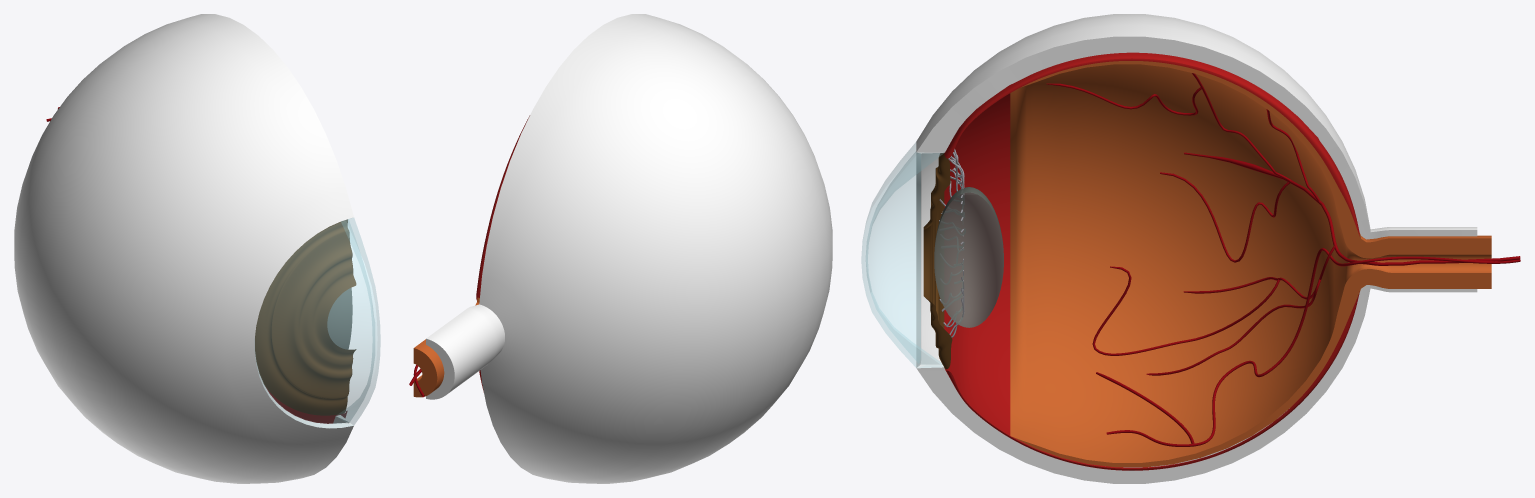
Rendered from anatomi_mata_eye_anatomy.glb.
The picture shows the model from 3 angles, left to right: view 1: azimuth 30°, elevation 25°; view 2: azimuth 150°, elevation 25°; view 3: azimuth 270°, elevation 25°; orthographic projection. The views are drawn at different scales.
Visible parts, largest first — view 1: Sphere.004_7, Sphere.005_8, Sphere.002_5, Sphere.001_1, Sphere_4; view 2: Sphere.004_7, Sphere.003_6, Sphere_4; view 3: Sphere.003_6, Sphere.004_7, Sphere_4, Sphere.005_8, Sphere.001_1, Sphere.006_11, BezierCurve.009_9, Sphere.002_5, BezierCurve_10.
Part boxes in pixels (x1,y1,x2,y2): Sphere.004_7: (14, 14, 353, 483); Sphere.005_8: (255, 217, 380, 428); Sphere.002_5: (255, 219, 356, 415); Sphere.001_1: (327, 288, 352, 349); Sphere_4: (266, 388, 347, 423); Sphere.004_7: (426, 14, 832, 483); Sphere.003_6: (413, 297, 479, 397); Sphere_4: (476, 115, 529, 392); Sphere.003_6: (1010, 61, 1491, 467); Sphere.004_7: (916, 14, 1477, 483); Sphere_4: (944, 52, 1359, 470); Sphere.005_8: (861, 142, 943, 367); Sphere.001_1: (934, 187, 1003, 327); Sphere.006_11: (934, 193, 1003, 327); BezierCurve.009_9: (1046, 73, 1520, 375); Sphere.002_5: (923, 153, 952, 369); BezierCurve_10: (1096, 248, 1520, 446).
Size of the model in its own units: 1.53 by 2.88 by 3.85.
